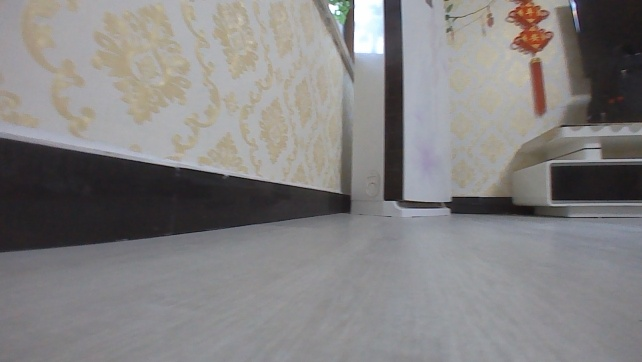TV_stand1: (509, 117, 641, 220)
